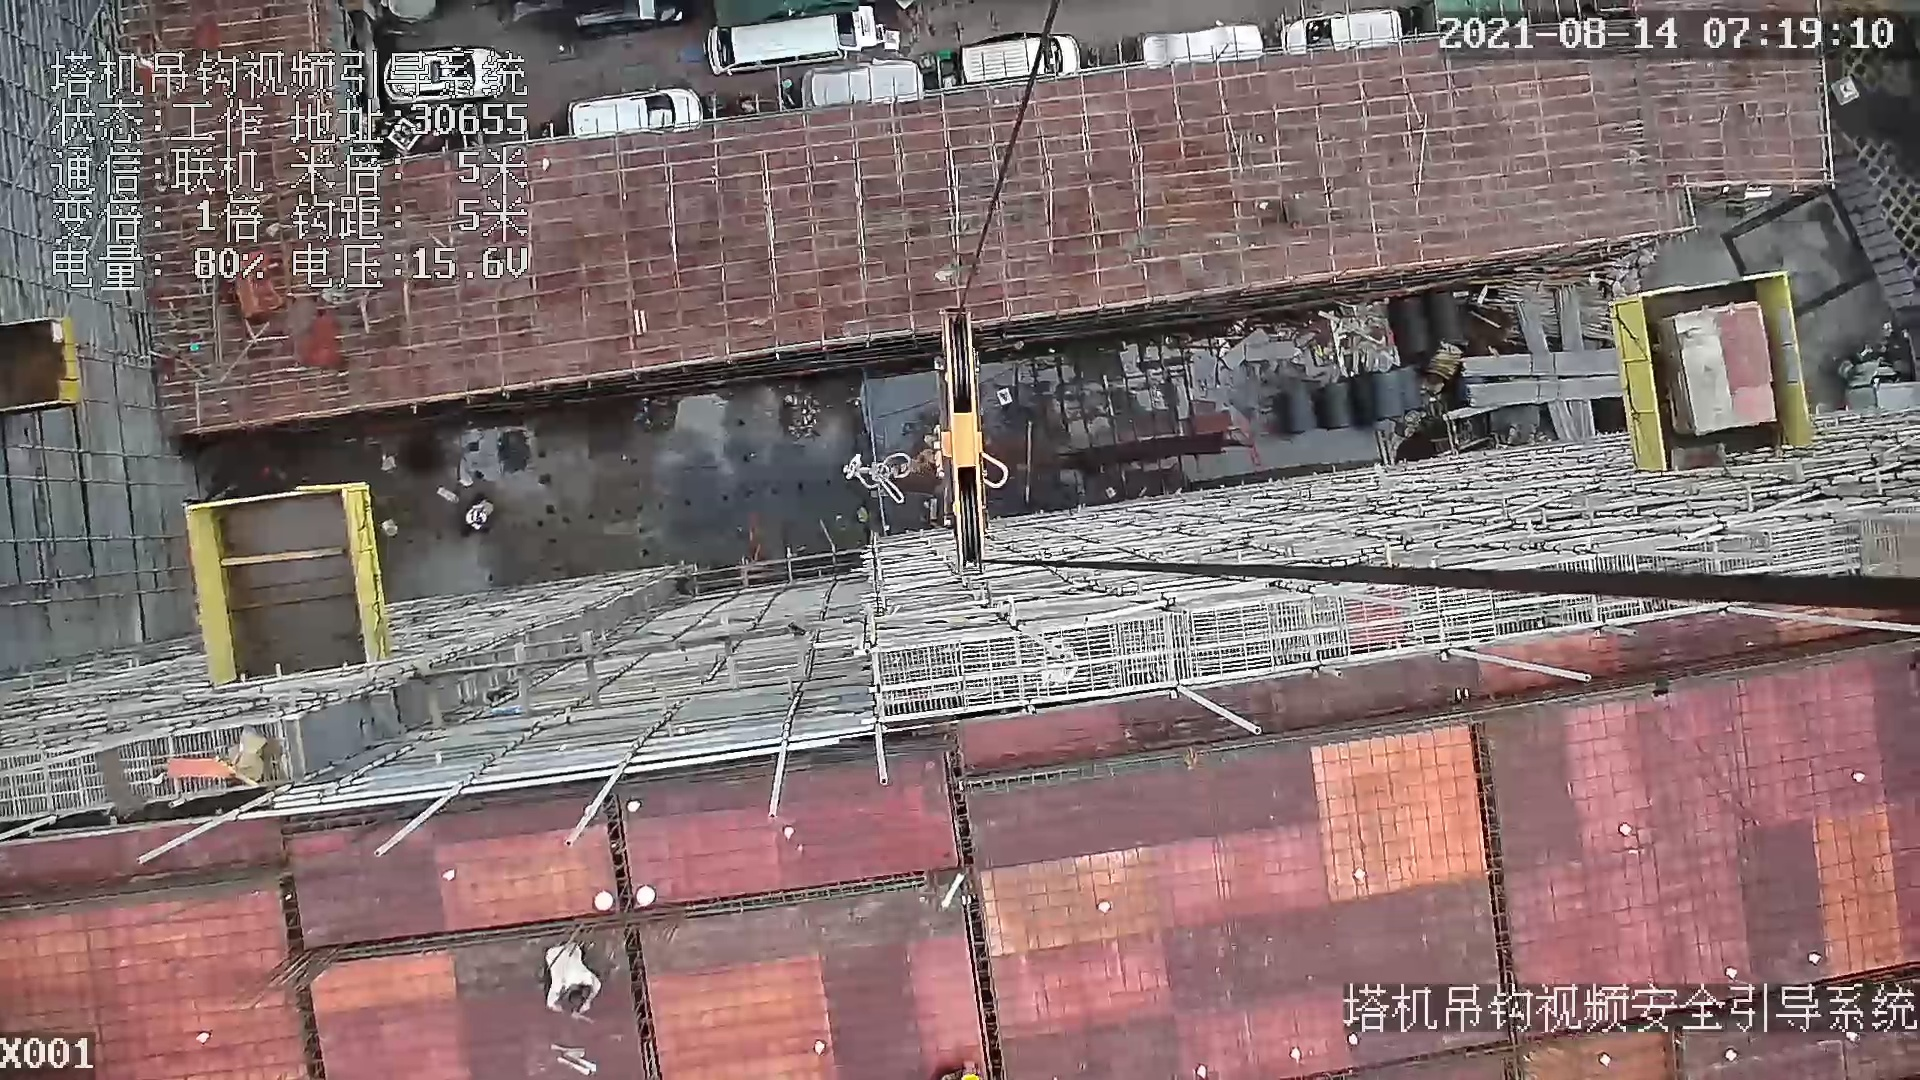hook: (929, 300, 1013, 576)
person: (533, 946, 603, 1022)
